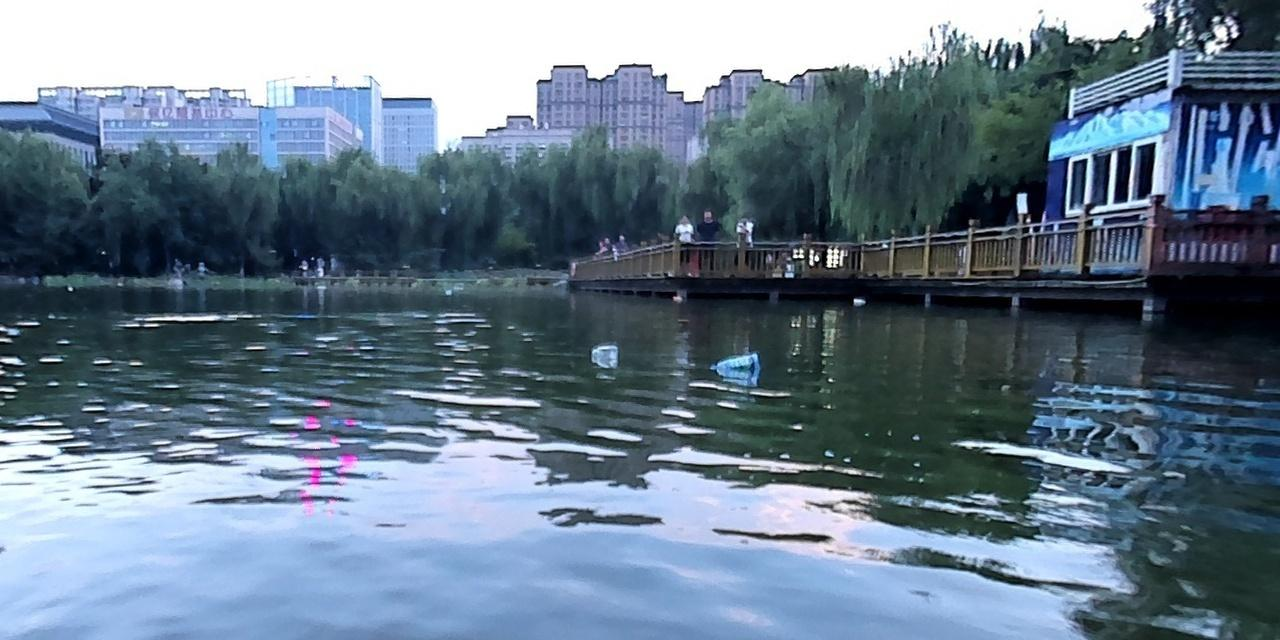bottle: (709, 351, 758, 372), (590, 344, 618, 356), (852, 296, 863, 306)
